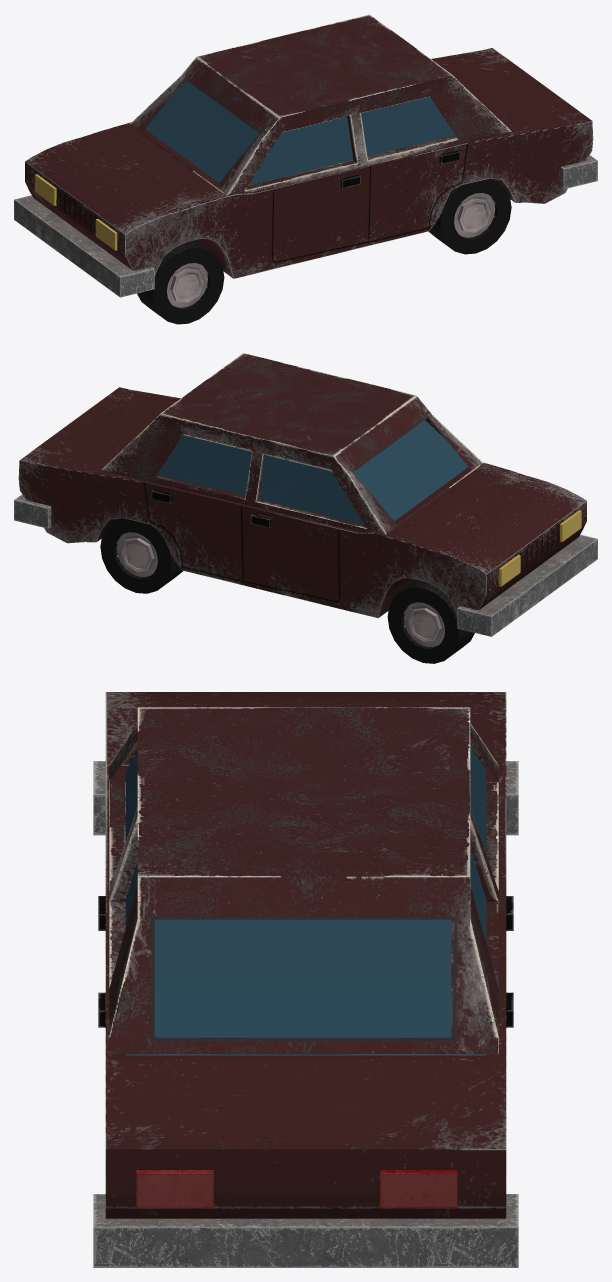
Rendered from Lada_Textured.fbx.
3 renders of one model, top to bottom at view 1: azimuth 30°, elevation 25°; view 2: azimuth 150°, elevation 25°; view 3: azimuth 270°, elevation 25°, orthographic. The views are drawn at different scales.
Visible parts, largest first — view 1: Body, Roof, Windows, Tire (×2), Front_Bumper, Wheel (×2), Front_Bumper1, Headlight, Headlight1; view 2: Body, Roof, Windows, Tire (×2), Front_Bumper, Wheel (×2), Front_Bumper1, Headlight1, Headlight; view 3: Roof, Body, Windows, Front_Bumper1, Tail_Light1, Tail_Light, Front_Bumper.
Part boxes in pixels (box(x1,y1,x2,y2)): Body: box(25, 48, 593, 278); Roof: box(129, 14, 511, 195); Windows: box(145, 81, 457, 185); Tire (×2): box(137, 178, 511, 324); Front_Bumper: box(14, 195, 154, 297); Wheel (×2): box(167, 193, 495, 307); Front_Bumper1: box(560, 155, 597, 189); Headlight: box(34, 174, 56, 205); Headlight1: box(95, 219, 117, 250); Body: box(18, 387, 586, 618); Roof: box(101, 353, 483, 534); Windows: box(155, 420, 467, 525); Tire (×2): box(100, 518, 474, 663); Front_Bumper: box(457, 534, 597, 636); Wheel (×2): box(116, 532, 444, 647); Front_Bumper1: box(14, 494, 51, 528); Headlight1: box(559, 510, 581, 541); Headlight: box(499, 555, 520, 586); Roof: box(109, 707, 498, 1054); Body: box(105, 692, 506, 1218); Windows: box(125, 747, 486, 1055); Front_Bumper1: box(93, 1194, 518, 1267); Tail_Light1: box(136, 1170, 213, 1208); Tail_Light: box(380, 1170, 457, 1208); Front_Bumper: box(93, 761, 518, 835).
Size of the model in its own units: 7.14 by 2.53 by 2.74.
Materials: 9 (8 with a texture image).
